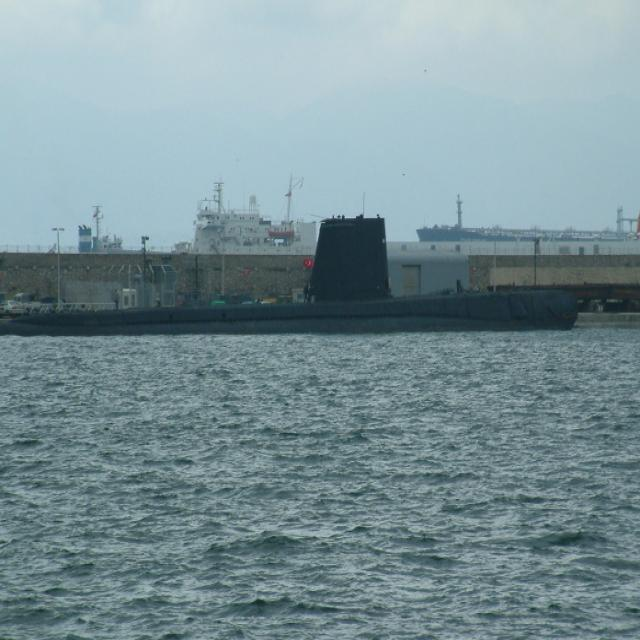submarine: (14, 218, 590, 339)
